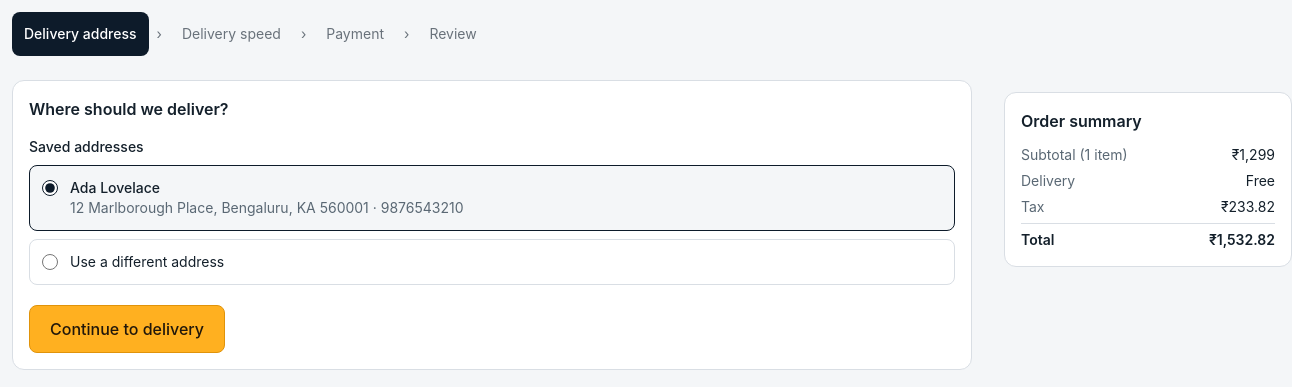
Test case: CheckoutFlow › totals › follows the delivery choice
What coordinates should you click on to do the following:
click the button "Continue to delivery"
I would click on:
 (127, 329)
Its box is [29,305,225,353].
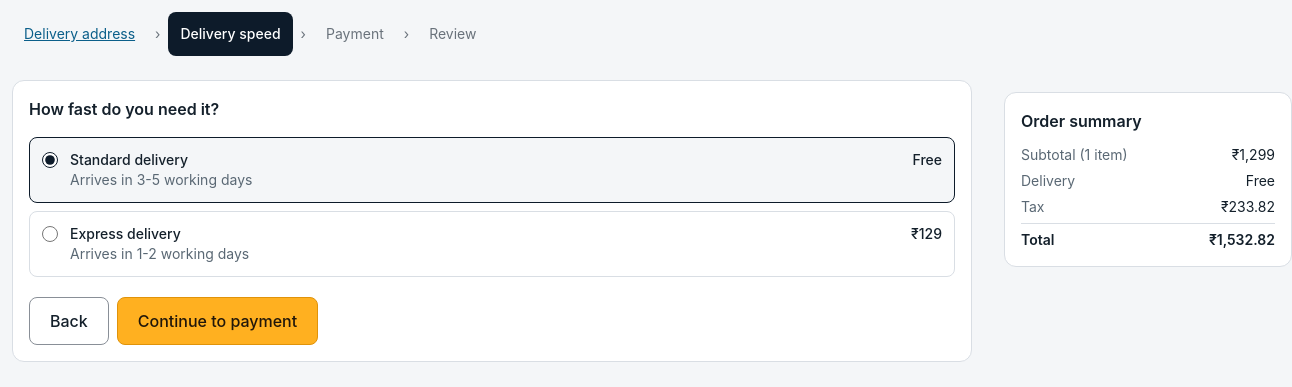
What coordinates should you click on to do the following:
click the radio button labelled "Express delivery Arrives in 1-2 working days ₹129"
I would click on:
 (50, 234)
Its box is [42,226,58,242].
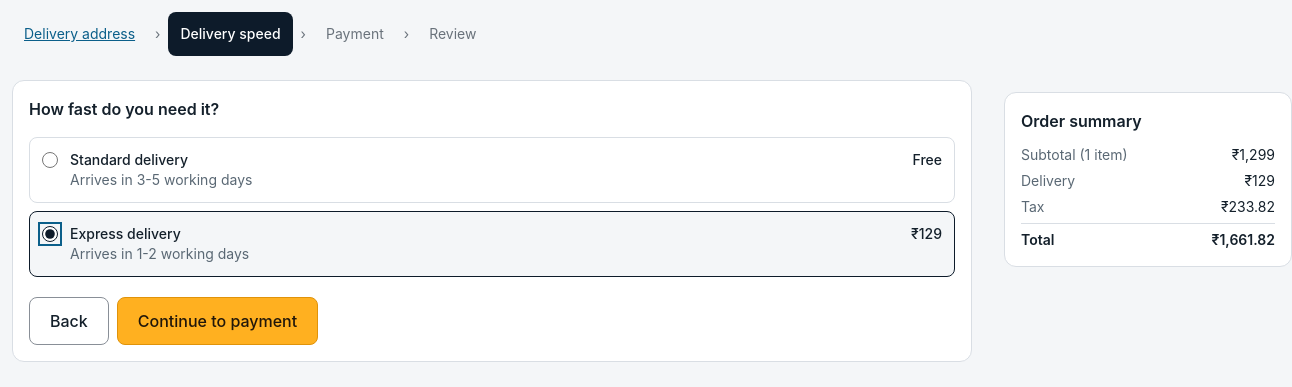
Expected: the text "₹129" below "Subtotal (1 item)" is shown, [1244,172,1275,189]
